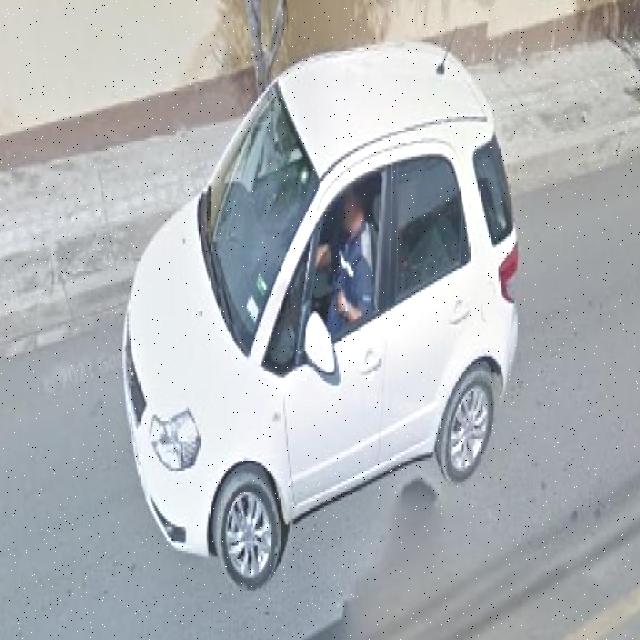car: (119, 48, 524, 598)
